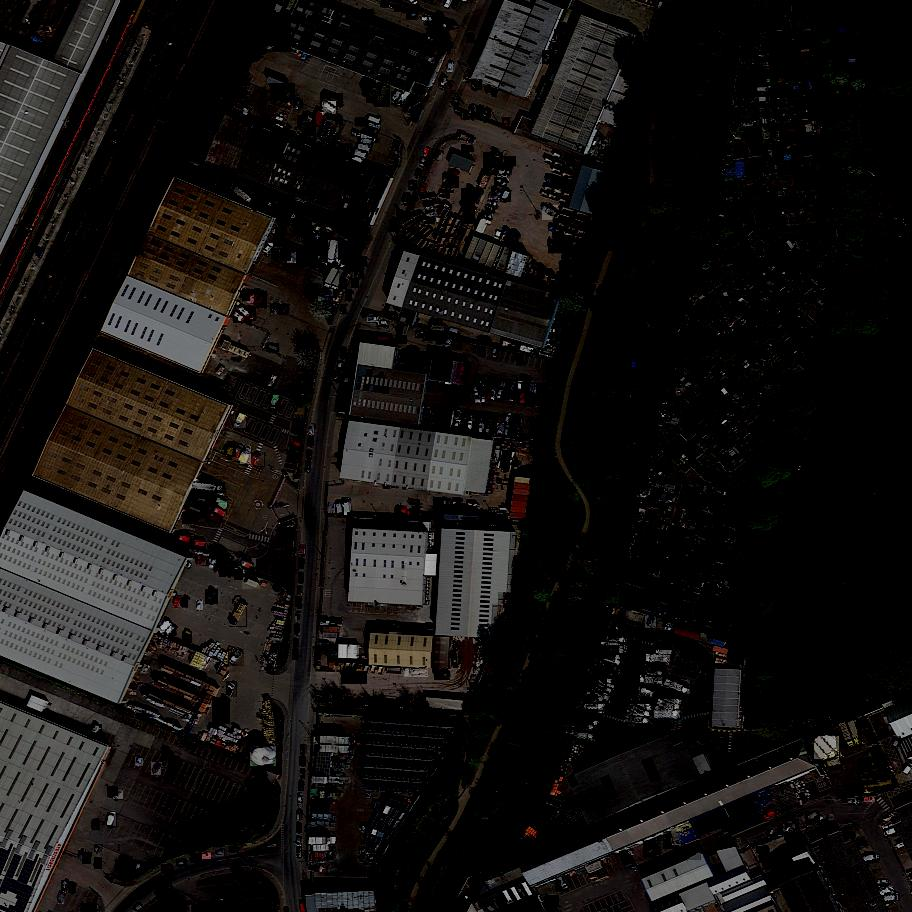large-vehicle: (264, 13, 292, 53), (858, 758, 888, 784), (814, 736, 839, 762), (809, 741, 832, 765), (338, 247, 360, 272), (315, 238, 337, 263), (212, 698, 231, 726), (583, 691, 609, 711), (656, 699, 684, 717), (840, 723, 858, 751), (587, 678, 612, 698), (628, 705, 654, 724), (483, 152, 503, 176), (230, 603, 248, 629), (599, 646, 625, 664), (592, 666, 618, 684), (584, 686, 611, 703), (270, 84, 295, 102), (277, 205, 301, 223), (572, 721, 599, 737), (323, 265, 340, 290), (297, 115, 317, 136), (665, 679, 691, 695), (373, 85, 391, 108), (593, 660, 620, 675), (232, 186, 253, 205), (330, 269, 347, 292), (320, 93, 343, 110), (863, 780, 895, 792), (334, 241, 348, 267), (850, 720, 863, 748), (575, 715, 601, 729), (193, 482, 226, 493), (252, 197, 276, 212), (461, 188, 475, 212), (828, 731, 840, 759), (641, 667, 667, 679), (597, 655, 623, 667), (342, 672, 368, 684), (868, 755, 887, 771), (547, 180, 572, 192), (662, 693, 683, 707), (239, 305, 257, 321), (229, 649, 245, 667), (823, 759, 844, 772), (250, 452, 266, 469), (543, 205, 560, 221), (664, 831, 679, 849), (238, 558, 256, 573), (242, 575, 261, 589), (328, 241, 339, 265), (457, 133, 477, 146), (603, 635, 629, 645), (232, 444, 246, 462), (211, 496, 229, 510), (404, 667, 429, 677), (644, 840, 657, 859), (602, 642, 626, 652), (234, 414, 248, 431), (248, 290, 265, 304), (226, 681, 240, 698), (554, 236, 572, 249), (240, 446, 252, 465), (589, 677, 614, 686), (183, 512, 199, 526), (463, 209, 477, 225), (367, 88, 381, 104), (210, 504, 227, 517), (254, 291, 267, 308), (439, 204, 452, 221), (639, 686, 656, 699), (234, 312, 253, 323), (557, 877, 570, 893), (549, 226, 566, 238), (443, 176, 460, 188), (655, 710, 680, 718), (206, 512, 224, 523), (175, 533, 193, 544), (640, 676, 664, 684), (182, 513, 198, 525), (389, 625, 408, 635), (270, 395, 281, 412), (563, 257, 580, 268), (534, 266, 545, 283), (501, 230, 512, 247), (543, 50, 556, 64), (160, 621, 173, 635), (548, 244, 566, 254), (434, 499, 452, 509), (863, 752, 883, 761), (672, 828, 682, 846), (629, 701, 654, 708), (570, 732, 595, 739), (190, 541, 209, 550), (878, 769, 891, 782), (626, 717, 650, 724), (647, 655, 670, 662), (227, 442, 237, 458), (510, 233, 520, 249), (863, 776, 879, 786), (554, 221, 569, 231), (561, 266, 577, 275), (372, 624, 388, 633), (561, 276, 571, 290), (646, 661, 662, 669), (580, 705, 605, 710), (336, 500, 344, 515), (863, 778, 878, 786), (428, 325, 446, 331), (344, 498, 351, 513), (567, 251, 582, 257), (399, 228, 406, 240), (657, 650, 673, 655), (878, 773, 890, 779)
small-vehicle: (309, 232, 325, 247), (398, 92, 412, 107), (323, 101, 338, 115), (88, 725, 102, 739), (806, 812, 821, 825), (205, 590, 218, 605), (355, 143, 372, 154), (362, 133, 379, 144), (392, 92, 405, 106), (545, 896, 559, 908), (108, 812, 118, 828), (406, 8, 419, 20), (646, 617, 658, 630), (816, 827, 829, 839), (151, 762, 163, 775), (881, 887, 895, 898), (687, 849, 701, 860), (350, 154, 365, 164), (365, 122, 380, 132), (365, 116, 381, 125), (863, 855, 879, 864), (434, 671, 450, 680), (401, 192, 412, 205), (504, 156, 517, 167), (501, 190, 512, 203), (107, 786, 118, 799), (884, 828, 897, 839), (358, 139, 373, 148), (271, 302, 282, 314), (280, 249, 291, 261), (354, 267, 365, 279), (264, 244, 275, 256), (471, 79, 482, 91), (389, 221, 400, 233), (162, 864, 174, 875), (191, 853, 203, 864), (113, 789, 124, 801), (260, 114, 271, 126), (764, 810, 776, 821), (783, 823, 794, 835), (167, 626, 178, 638), (494, 178, 507, 188), (340, 143, 353, 153), (83, 852, 93, 865), (291, 427, 304, 437), (182, 631, 192, 644), (352, 150, 368, 158), (299, 232, 310, 243), (760, 852, 771, 863), (300, 221, 312, 231), (601, 138, 611, 150), (396, 335, 408, 345), (445, 337, 455, 349), (453, 339, 463, 351), (485, 376, 495, 388), (298, 257, 308, 269), (271, 249, 281, 261), (281, 249, 291, 261), (492, 187, 504, 197), (427, 382, 437, 394), (767, 830, 777, 842), (290, 439, 302, 449), (278, 304, 290, 314), (266, 344, 279, 353), (243, 104, 252, 117), (61, 880, 70, 893), (173, 596, 182, 609), (273, 239, 287, 247), (797, 836, 808, 846), (278, 304, 288, 315), (555, 29, 565, 40), (287, 253, 297, 264), (408, 180, 418, 191), (434, 150, 444, 161), (502, 162, 513, 172), (482, 108, 492, 119), (355, 117, 366, 127), (294, 99, 304, 110), (134, 861, 144, 872), (817, 816, 828, 826), (276, 228, 288, 237), (362, 9, 374, 18), (893, 736, 902, 748), (510, 380, 519, 392), (480, 411, 489, 423), (214, 562, 223, 574), (234, 569, 243, 581), (884, 895, 899, 902), (514, 392, 522, 405), (436, 21, 449, 29), (92, 818, 100, 831), (242, 289, 250, 302), (289, 446, 302, 454), (423, 331, 433, 341), (446, 81, 456, 91), (293, 254, 302, 265), (598, 149, 607, 160), (430, 334, 441, 343), (509, 425, 518, 436), (466, 33, 475, 44), (177, 859, 188, 868), (94, 858, 103, 869), (522, 382, 531, 393), (455, 409, 464, 420), (504, 414, 513, 425), (135, 757, 144, 768), (526, 395, 534, 407), (491, 348, 499, 360), (287, 451, 299, 459), (346, 290, 354, 302), (497, 423, 505, 435), (462, 145, 474, 153), (219, 899, 227, 911), (230, 899, 238, 911), (763, 862, 775, 870), (220, 565, 228, 577), (478, 338, 491, 345), (300, 257, 307, 270), (440, 77, 447, 90), (394, 6, 407, 13), (275, 233, 285, 242), (313, 226, 322, 236), (419, 158, 428, 168), (485, 205, 495, 214), (494, 231, 503, 241), (319, 294, 329, 303), (437, 336, 448, 344), (307, 436, 315, 447), (351, 278, 359, 289), (552, 40, 560, 51), (449, 169, 460, 177), (516, 355, 524, 366), (69, 883, 77, 894), (777, 825, 785, 836), (454, 419, 462, 430), (406, 346, 418, 353), (367, 317, 379, 324), (448, 329, 460, 336), (341, 348, 348, 360), (489, 194, 501, 201), (296, 836, 303, 848), (398, 348, 405, 360), (296, 596, 303, 608), (161, 756, 168, 768), (201, 557, 210, 566), (559, 23, 567, 33), (416, 330, 426, 338), (559, 23, 567, 33), (415, 169, 423, 179), (502, 117, 510, 127), (94, 844, 102, 854), (400, 506, 408, 516), (334, 371, 342, 381), (209, 559, 217, 569), (278, 222, 289, 229), (329, 503, 336, 514), (421, 183, 428, 194), (487, 201, 498, 208), (336, 116, 343, 127), (854, 784, 865, 791), (490, 389, 497, 400), (493, 413, 500, 424), (299, 558, 306, 569), (293, 649, 300, 660), (227, 566, 234, 577), (197, 600, 204, 611), (496, 176, 508, 182), (481, 212, 493, 218), (555, 880, 561, 892), (793, 819, 799, 831), (337, 360, 345, 369), (288, 252, 295, 262), (361, 257, 368, 267), (203, 853, 213, 860), (297, 793, 304, 803), (845, 833, 855, 840), (857, 840, 867, 847), (655, 846, 662, 856), (324, 289, 334, 296), (472, 387, 479, 397), (505, 379, 512, 389), (496, 390, 503, 400), (300, 545, 307, 555), (557, 30, 563, 41), (276, 229, 287, 235), (341, 304, 347, 315), (395, 506, 401, 517), (475, 410, 481, 421), (521, 375, 532, 381), (500, 169, 511, 175), (79, 849, 85, 860), (58, 893, 64, 904), (542, 384, 548, 395), (756, 847, 767, 853), (306, 461, 312, 472), (307, 451, 313, 462), (361, 256, 368, 265), (477, 105, 484, 114), (298, 782, 305, 791), (530, 383, 536, 393), (294, 419, 304, 425), (215, 850, 225, 856), (397, 209, 403, 219), (546, 359, 551, 371), (468, 421, 474, 431), (486, 389, 492, 399), (479, 423, 485, 433), (196, 555, 202, 565), (533, 395, 538, 406), (462, 409, 467, 420), (529, 417, 534, 428), (878, 881, 889, 886), (480, 387, 485, 398), (487, 412, 492, 423), (511, 414, 517, 423), (494, 377, 499, 387), (294, 425, 304, 430), (448, 62, 453, 72), (279, 222, 289, 227), (352, 131, 362, 136), (239, 899, 244, 909), (296, 823, 301, 833), (309, 425, 314, 435), (492, 424, 497, 434), (299, 572, 304, 582), (378, 338, 390, 342), (852, 792, 864, 796), (398, 325, 403, 334), (382, 2, 391, 7), (296, 848, 301, 857), (500, 378, 505, 387), (516, 427, 521, 436), (182, 598, 187, 607), (300, 745, 305, 754), (378, 322, 389, 326), (536, 383, 540, 394), (480, 346, 484, 357), (422, 18, 433, 22), (864, 798, 875, 802), (553, 41, 557, 51), (518, 416, 522, 426), (229, 847, 239, 851), (297, 810, 301, 820), (472, 422, 477, 430), (518, 382, 523, 390), (475, 399, 485, 403), (529, 429, 533, 439), (486, 425, 491, 433), (295, 624, 299, 634), (300, 756, 304, 766), (388, 313, 397, 317), (540, 396, 544, 405), (469, 105, 473, 114), (425, 148, 429, 157), (521, 394, 525, 403), (275, 235, 286, 238), (493, 89, 497, 97), (528, 113, 536, 117), (849, 800, 857, 804), (470, 410, 474, 418), (297, 586, 301, 594), (485, 86, 490, 92), (451, 388, 461, 391), (294, 639, 298, 646), (503, 390, 506, 399), (475, 375, 478, 384), (481, 376, 484, 384), (326, 116, 334, 119), (295, 612, 298, 620), (510, 393, 513, 400), (301, 769, 303, 776)
storage-tank: (250, 746, 277, 768)
